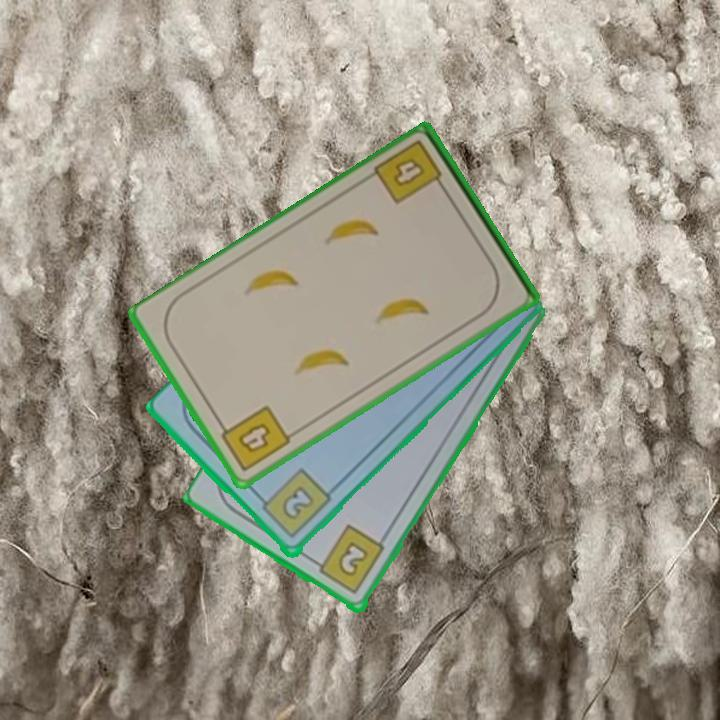2b: (253, 466, 334, 542), (309, 522, 388, 598)
4b: (214, 402, 294, 475), (371, 136, 450, 209)
